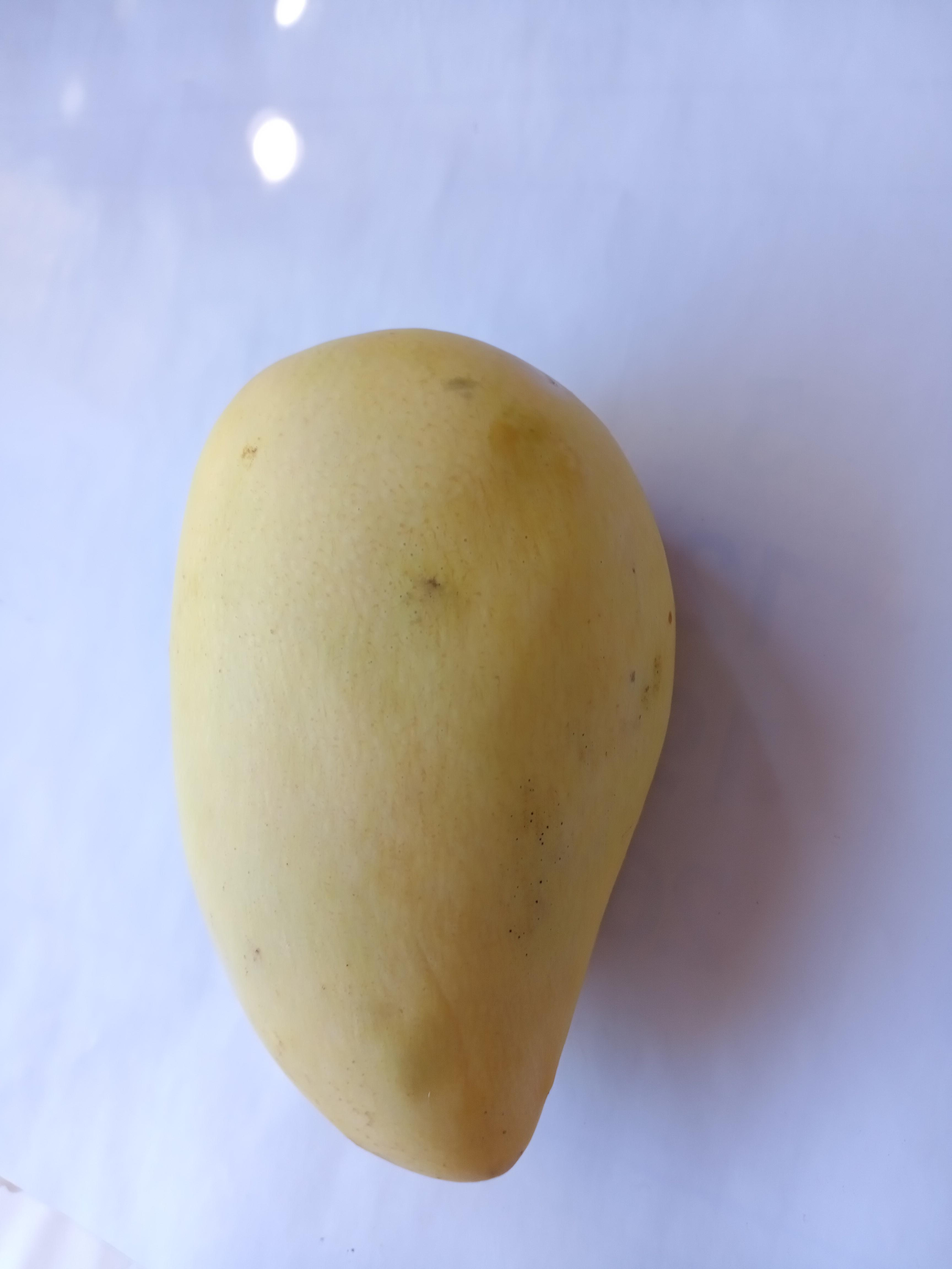Mango Ripe: (116, 256, 705, 1220)
